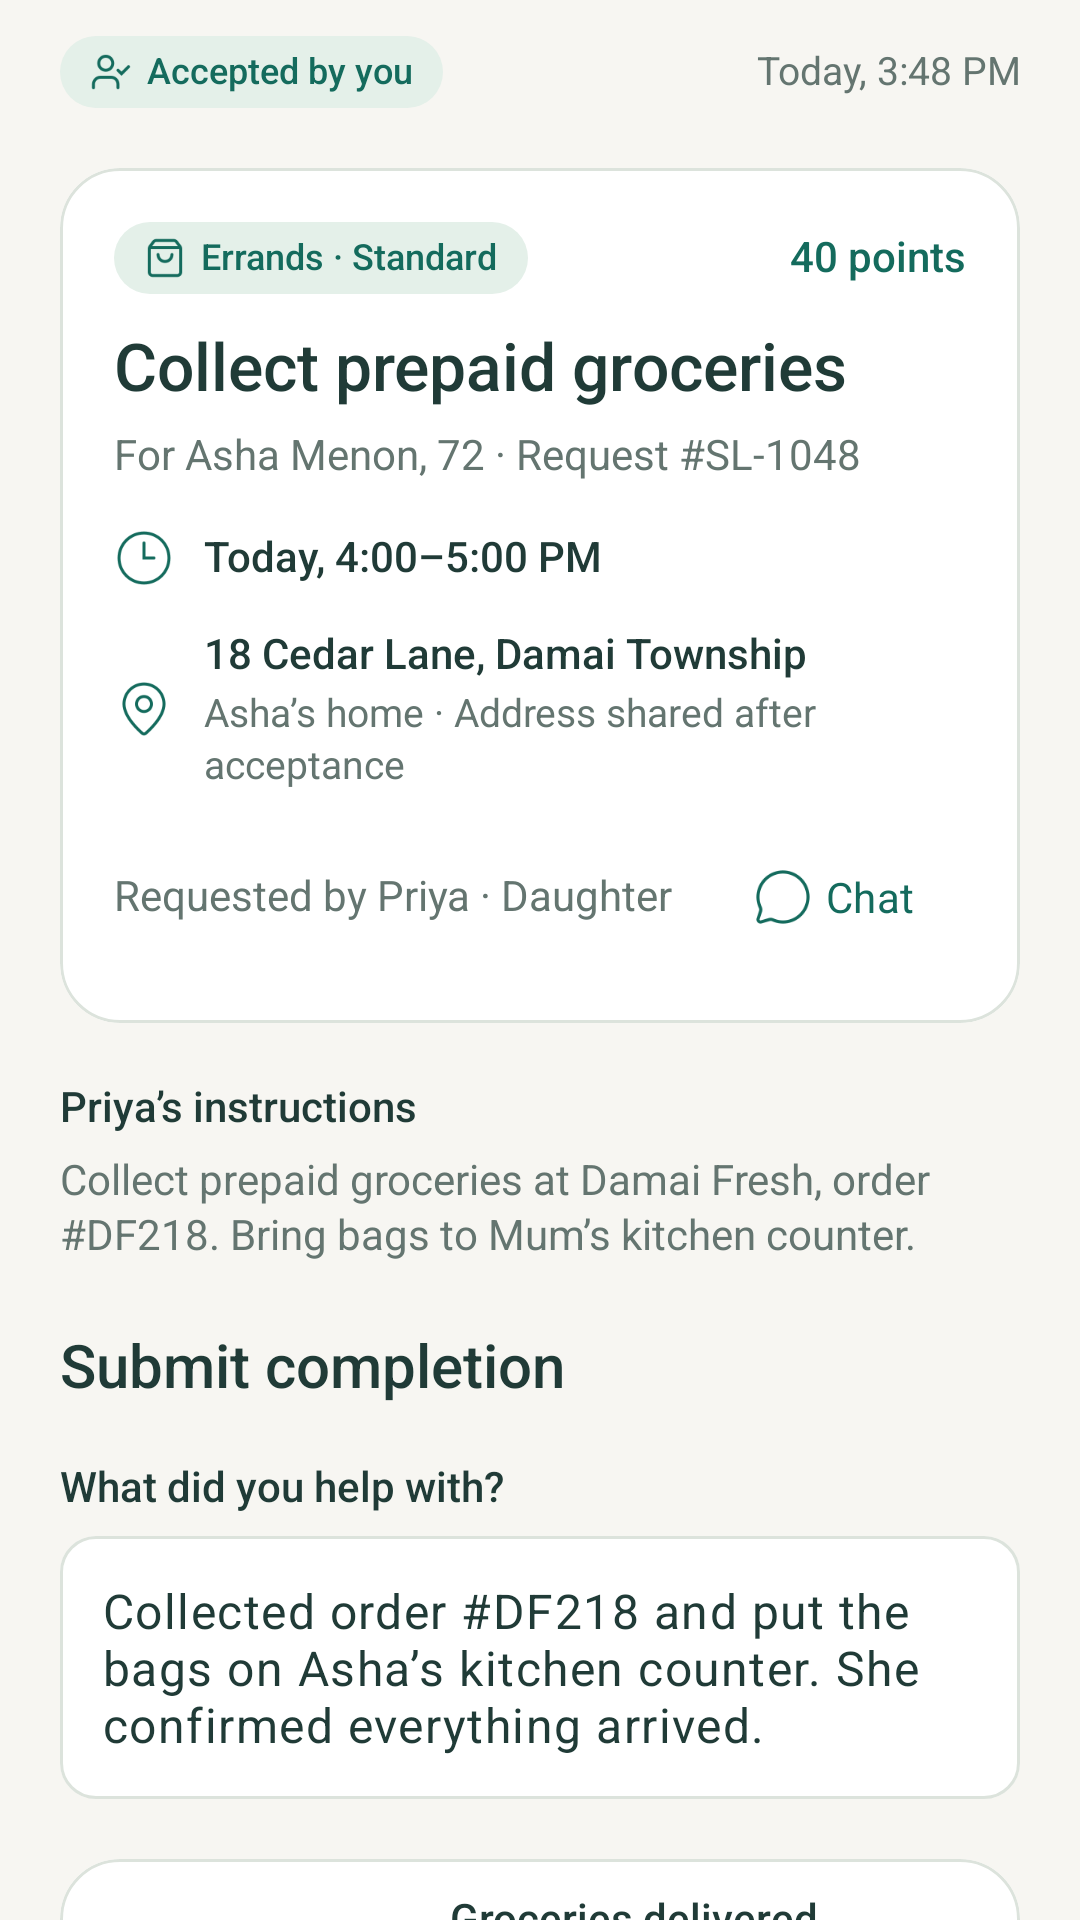

Where to tap for icons on this 1080×1920 app screen, as (x,y):
nearby shopping bag: (165,258)
task clock: (144,558)
task map pin: (144,709)
task user check: (110,72)
